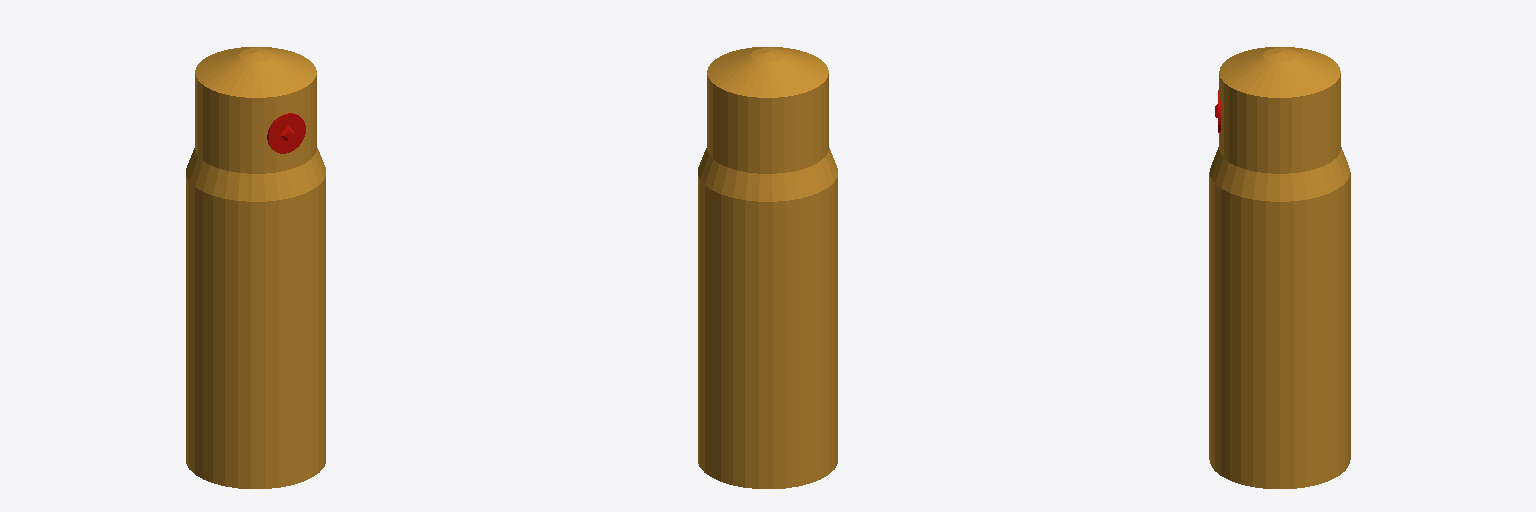
Rendered from deodorant.obj.
3 renders of one model, left to right at view 1: azimuth 30°, elevation 25°; view 2: azimuth 150°, elevation 25°; view 3: azimuth 270°, elevation 25°, orthographic.
Visible parts, largest first — view 1: deodorant_; view 2: deodorant_; view 3: deodorant_.
Part boxes in pixels (bbox=[...]): deodorant_: bbox=[186, 47, 325, 488]; deodorant_: bbox=[698, 47, 837, 488]; deodorant_: bbox=[1209, 47, 1350, 488].
Size of the model in its own units: 0.1414 by 0.4503 by 0.1414.